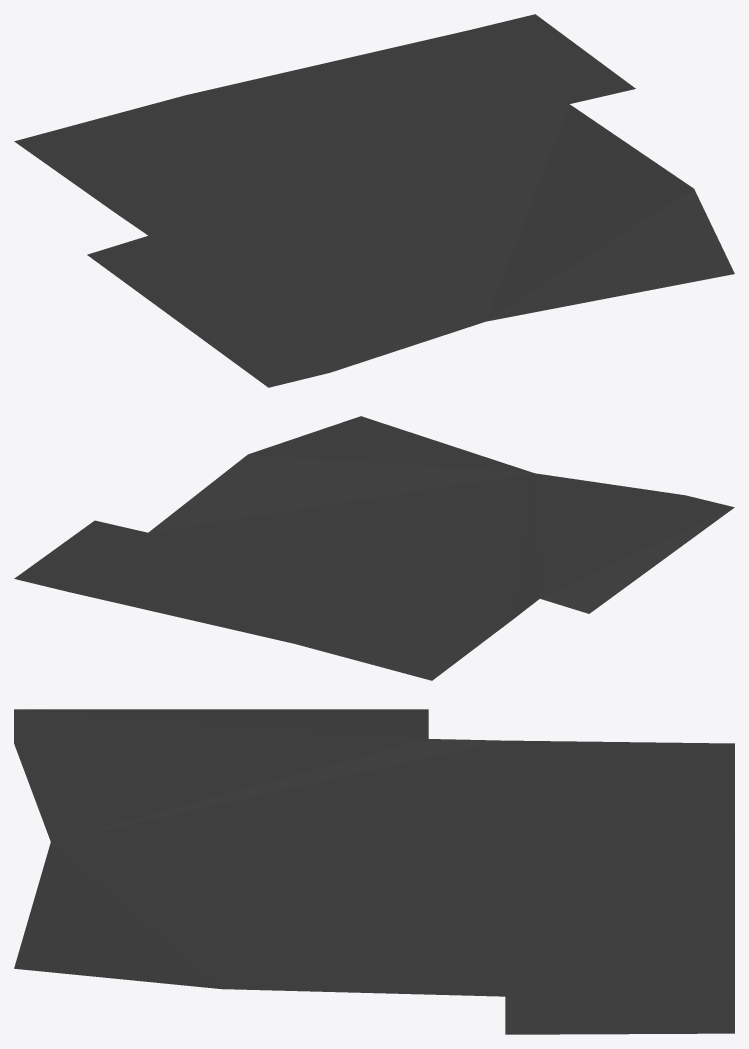
Rendered from Cave_14_Down_LOD.fbx.
3 renders of one model, top to bottom at view 1: azimuth 30°, elevation 25°; view 2: azimuth 150°, elevation 25°; view 3: azimuth 270°, elevation 25°, orthographic. The views are drawn at different scales.
Visible parts, largest first — view 1: polySurface784; view 2: polySurface784; view 3: polySurface784.
Part boxes in pixels (x1=…): polySurface784: x1=14, y1=14, x2=734, y2=387; polySurface784: x1=14, y1=416, x2=734, y2=680; polySurface784: x1=14, y1=709, x2=734, y2=1034.
Size of the model in its own units: 50 by 0.7537 by 46.96.
